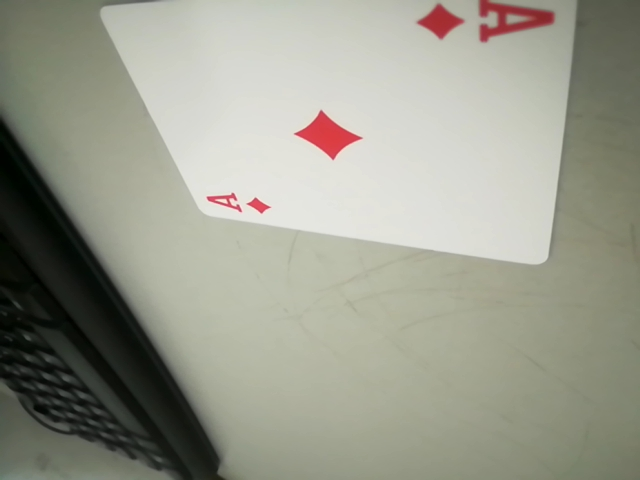fk a: (410, 0, 558, 49), (197, 185, 277, 218)
